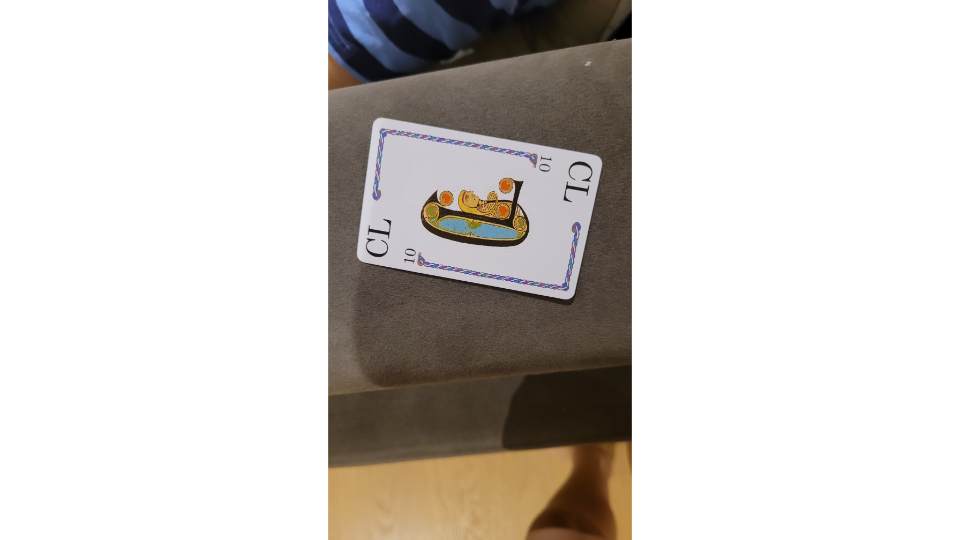CL: (352, 113, 604, 304)
